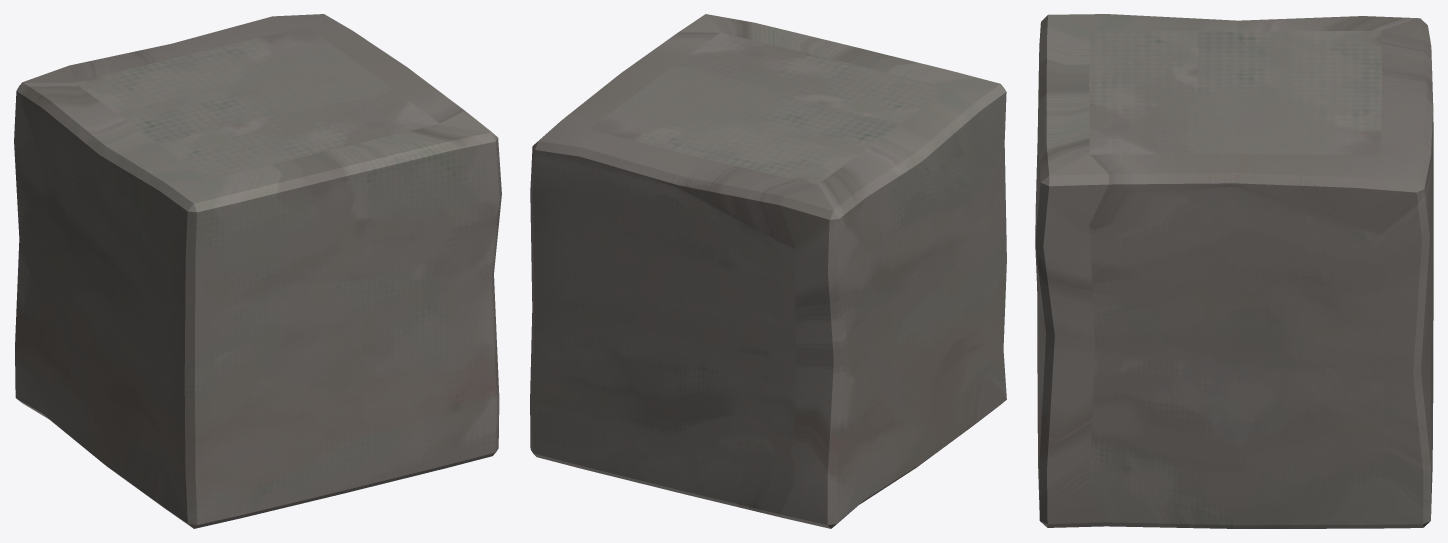
File: newDirt.fbx
3 renders of one model, left to right at view 1: azimuth 30°, elevation 25°; view 2: azimuth 150°, elevation 25°; view 3: azimuth 270°, elevation 25°, orthographic. The views are drawn at different scales.
Visible parts, largest first — view 1: pCube1; view 2: pCube1; view 3: pCube1.
Part boxes in pixels (x1,y1,x2,y2): pCube1: (14,14,501,528); pCube1: (530,14,1006,528); pCube1: (1035,14,1433,528).
Bounding box in the file's own units: 20.09 × 20 × 20.1.
